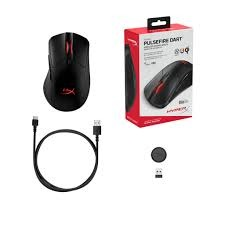mouse: (39, 22, 95, 116), (146, 60, 191, 109)
